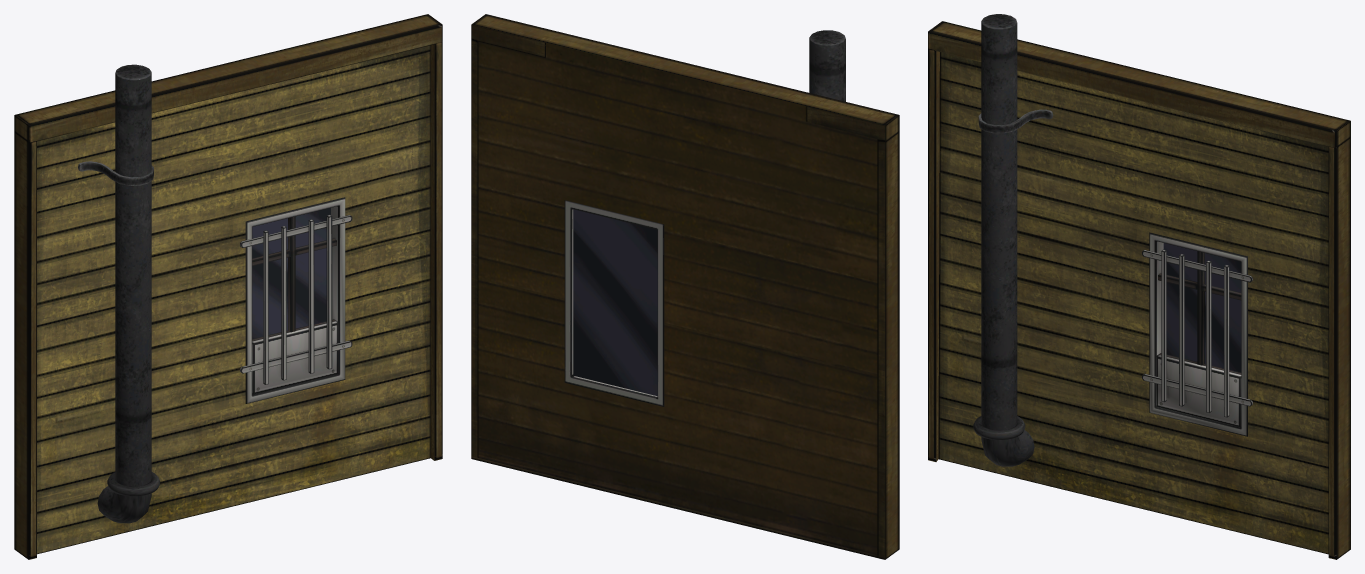
The model's file is SheriffOffice_Left.obj.
3 renders of one model, left to right at view 1: azimuth 30°, elevation 25°; view 2: azimuth 150°, elevation 25°; view 3: azimuth 330°, elevation 25°, orthographic.
Visible parts, largest first — view 1: Model_SheriffOffice_Left; view 2: Model_SheriffOffice_Left; view 3: Model_SheriffOffice_Left.
Boxes of the visible parts, x1,y1,x2,y2 form: Model_SheriffOffice_Left: (14,14,442,559); Model_SheriffOffice_Left: (471,14,899,559); Model_SheriffOffice_Left: (928,14,1350,559).
Size of the model in its own units: 4.4 by 4.86 by 0.8192.
1 material, 1 textured.
